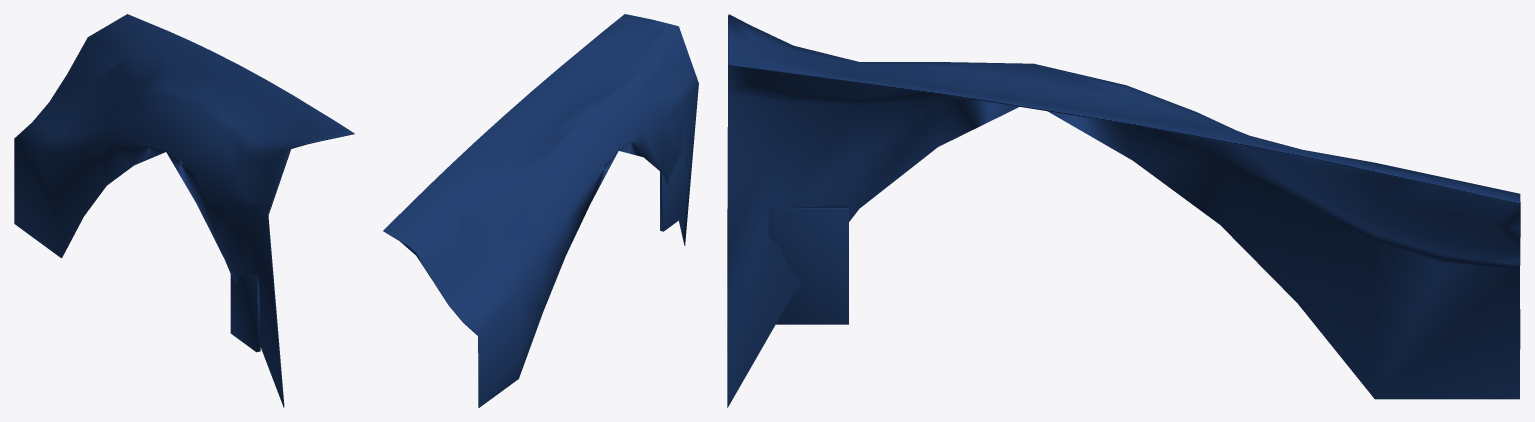
File: fender_fr.glb
3 views of the same model, side by side, from view 1: azimuth 30°, elevation 25°; view 2: azimuth 150°, elevation 25°; view 3: azimuth 270°, elevation 25° (orthographic). The views are drawn at different scales.
Visible parts, largest first — view 1: GEO_Fender_FR; view 2: GEO_Fender_FR; view 3: GEO_Fender_FR.
Part boxes in pixels (bbox=[...]): GEO_Fender_FR: bbox=[14, 14, 354, 407]; GEO_Fender_FR: bbox=[383, 14, 698, 407]; GEO_Fender_FR: bbox=[727, 14, 1520, 407].
Bounding box in the file's own units: 0.3678 × 0.7568 × 1.36.
